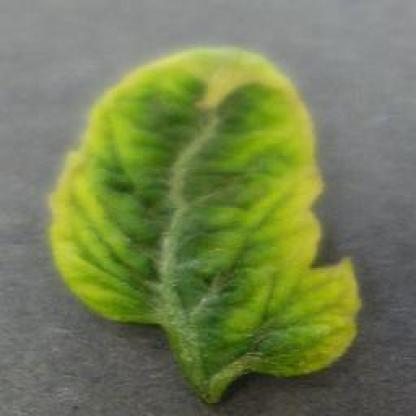bad leaf: (176, 171, 357, 366), (61, 135, 230, 320), (134, 38, 303, 206), (151, 284, 279, 408)
